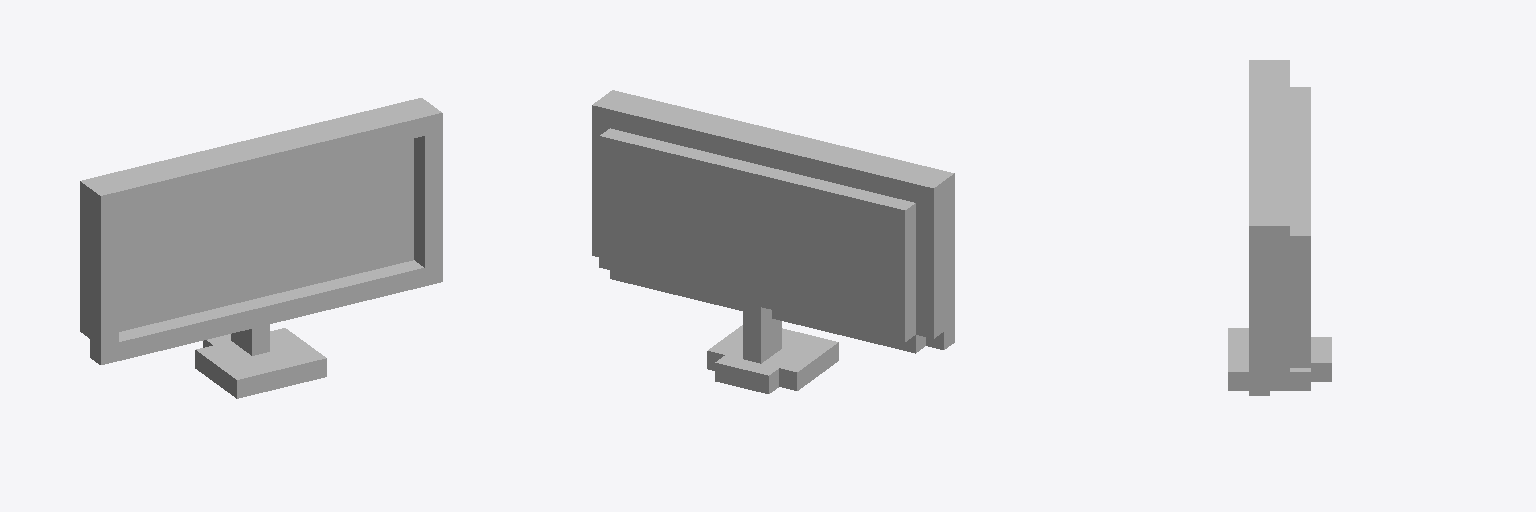
The model's file is monitor_prevolve obj.obj.
The picture shows the model from 3 angles: view 1: azimuth 30°, elevation 25°; view 2: azimuth 150°, elevation 25°; view 3: azimuth 270°, elevation 25°; orthographic projection.
Visible parts, largest first — view 1: object 1; view 2: object 1; view 3: object 1.
Boxes of the visible parts, x1=… form: object 1: x1=80, y1=98, x2=442, y2=398; object 1: x1=592, y1=90, x2=954, y2=393; object 1: x1=1228, y1=60, x2=1331, y2=395.
Size of the model in its own units: 1.9 by 1.2 by 0.5.